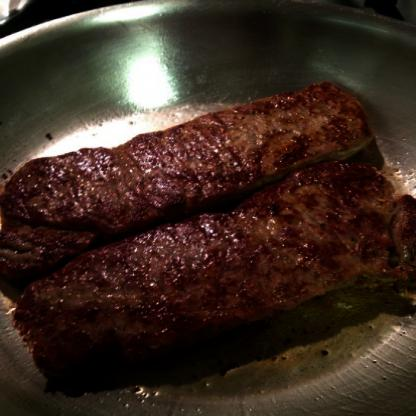Carne: (8, 161, 415, 382), (1, 75, 379, 272)
